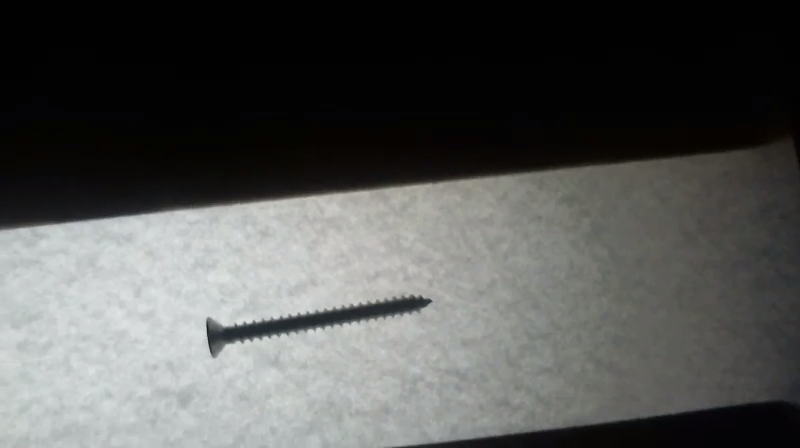S002: (203, 292, 436, 361)
